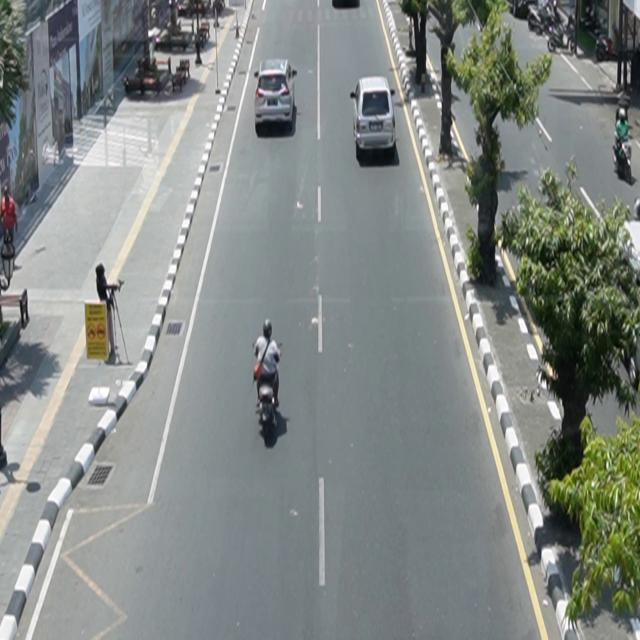car: (351, 76, 397, 158), (255, 59, 299, 130)
